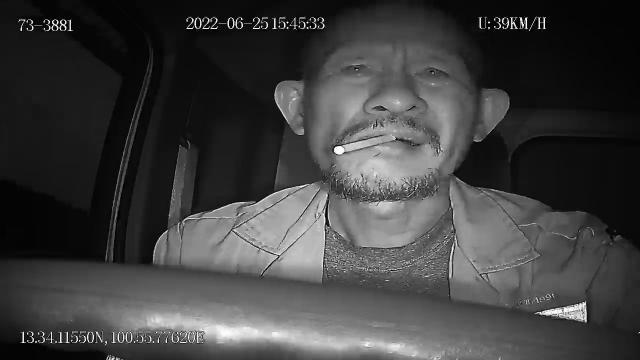SafeDriving: (404, 56, 458, 88), (333, 52, 382, 82)
Smoking: (331, 136, 395, 156)
